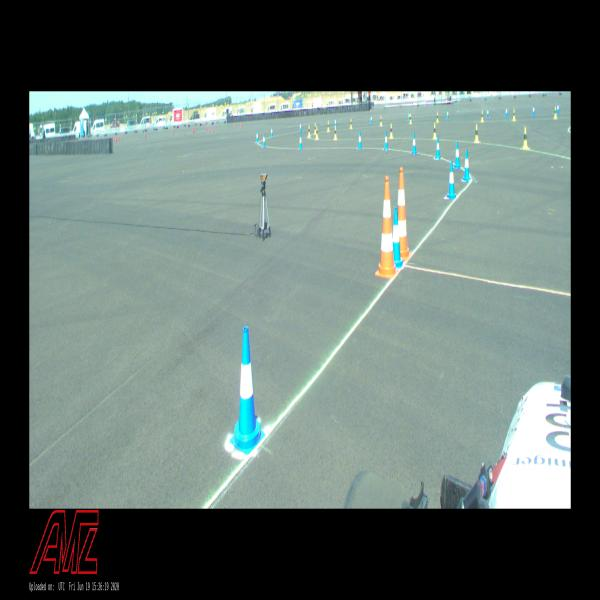blue_cone: (230, 327, 265, 454), (393, 207, 404, 268), (447, 161, 456, 198), (462, 150, 470, 181), (455, 142, 460, 168), (436, 136, 440, 158), (412, 132, 416, 154), (384, 131, 388, 150), (358, 132, 361, 148), (299, 133, 302, 149), (505, 107, 508, 117), (299, 122, 302, 131), (334, 118, 337, 127), (263, 134, 265, 146), (256, 131, 258, 142), (557, 103, 559, 114), (271, 126, 273, 137), (532, 105, 534, 115), (487, 108, 489, 118), (408, 112, 410, 121), (370, 115, 372, 123), (447, 110, 448, 118)
large_orange_cone: (376, 176, 398, 277), (398, 168, 411, 260)
unknown_cone: (234, 122, 236, 128), (119, 136, 120, 141), (115, 137, 116, 142)
yellow_cone: (523, 128, 528, 149), (475, 124, 478, 143), (433, 123, 436, 139), (512, 109, 516, 121), (390, 124, 393, 138), (334, 126, 337, 140), (554, 106, 557, 118), (481, 111, 484, 122), (327, 121, 330, 132), (409, 113, 412, 124), (436, 112, 439, 122), (316, 126, 318, 140), (308, 125, 310, 137), (314, 123, 316, 134), (350, 118, 352, 128), (380, 116, 382, 126)
